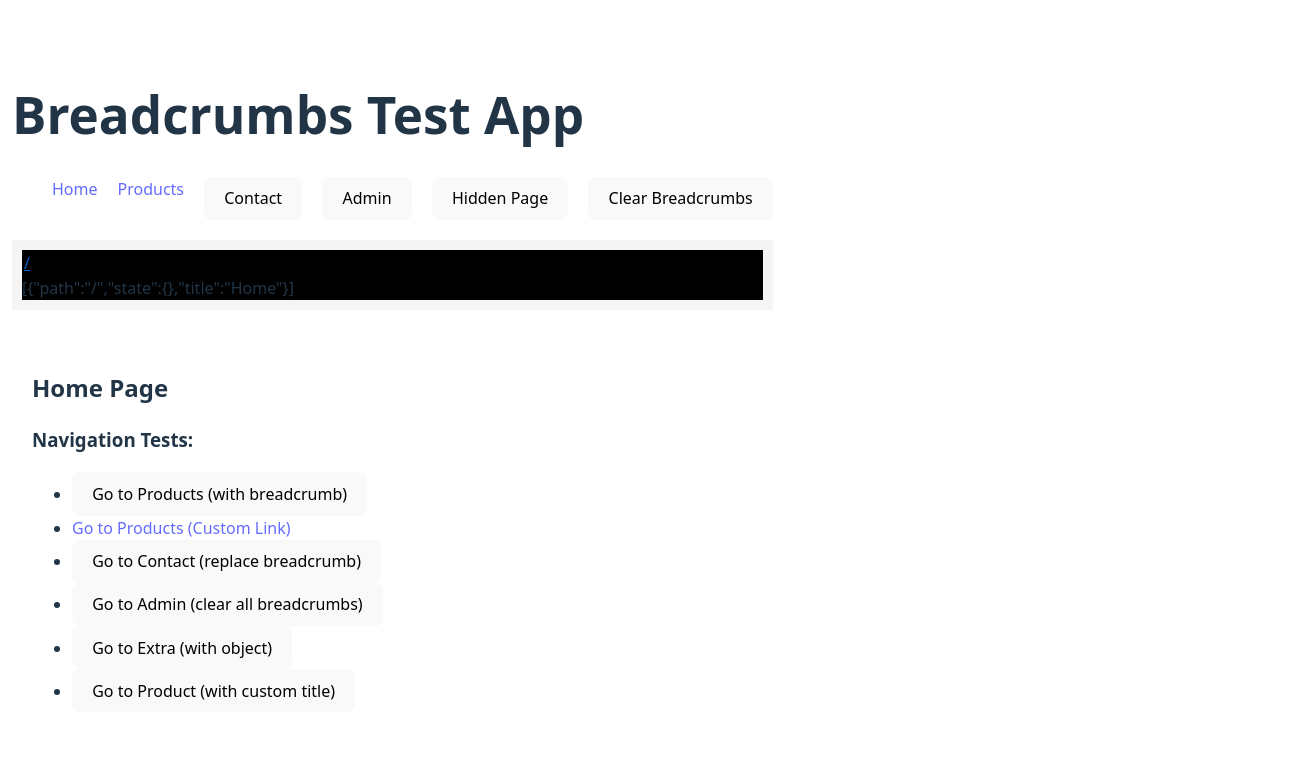
Test: General logic › Not using custom functions results in stack clearing
Click the link with test id "link-products" at (181, 528), box [72, 517, 290, 539]
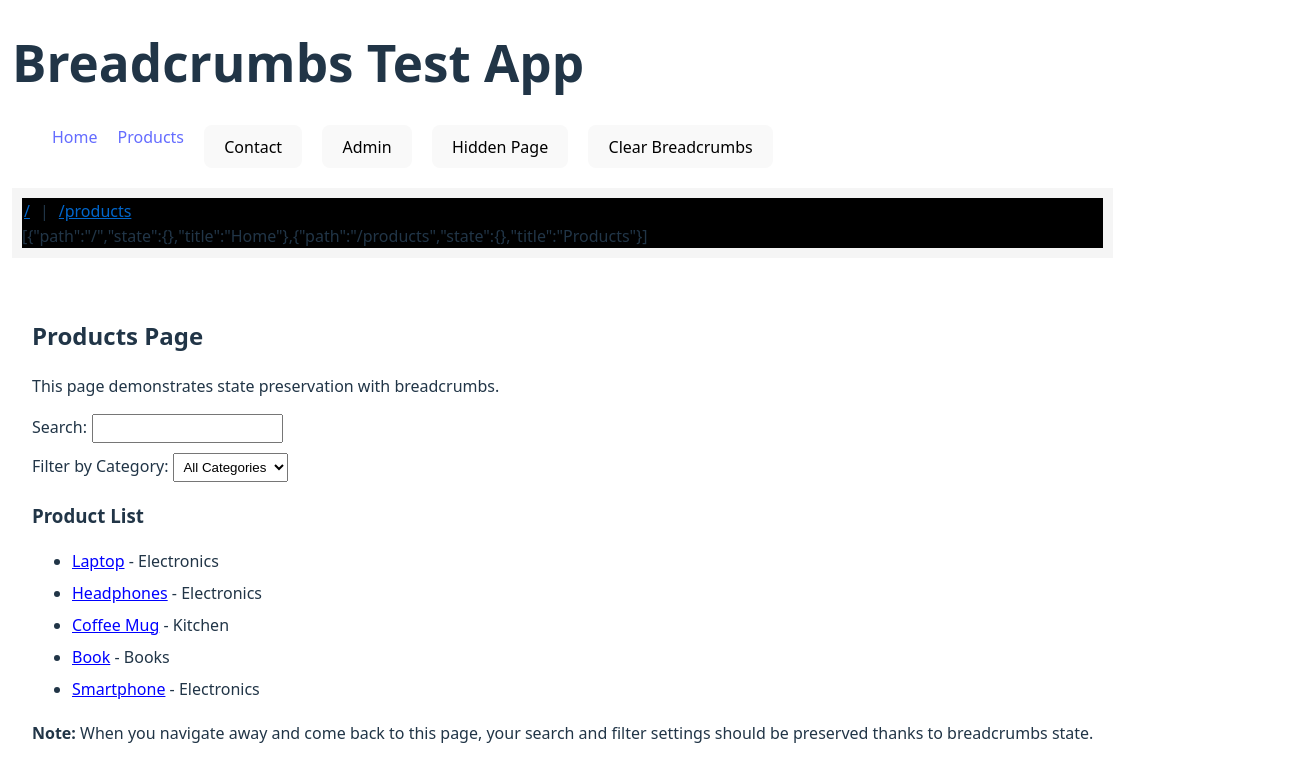
Click the link with test id "link-product1" at (98, 561), box [72, 550, 124, 572]
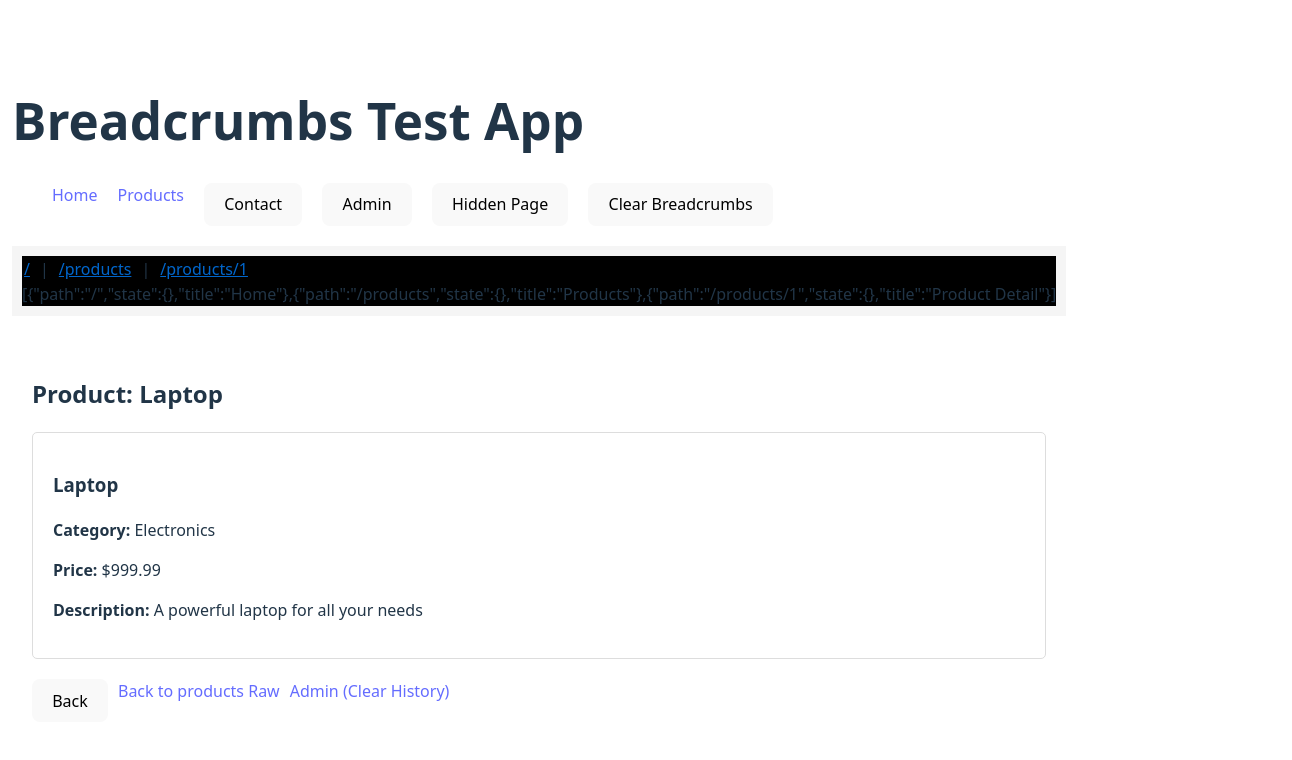
Click the link with test id "link-admin-raw" at (370, 691), box [290, 680, 449, 702]
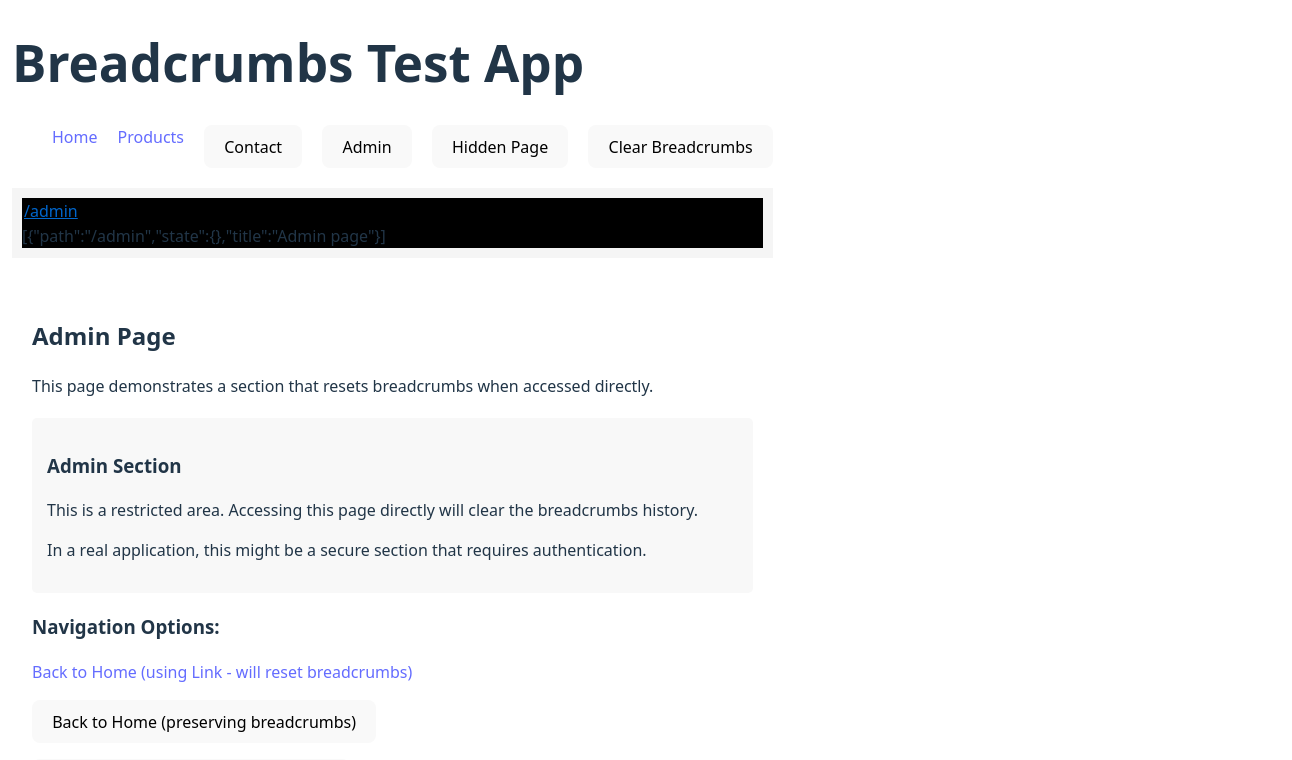
Check: the button "/admin" is shown, box [22, 198, 80, 224]
